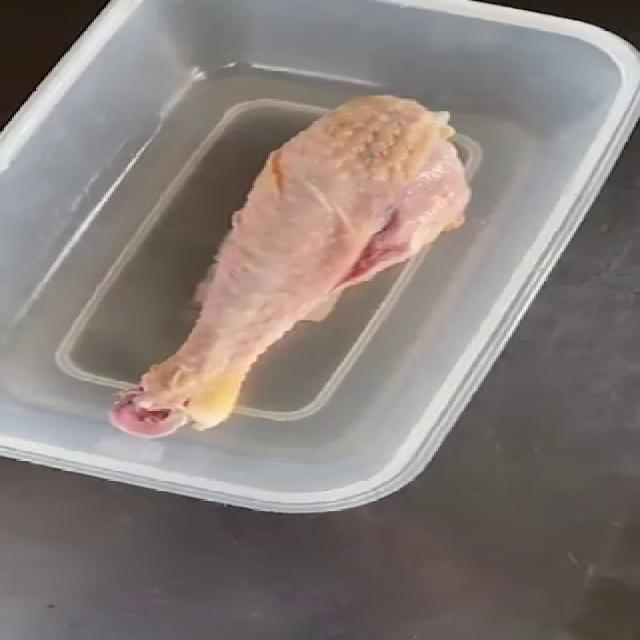chicken: (107, 92, 472, 440)
